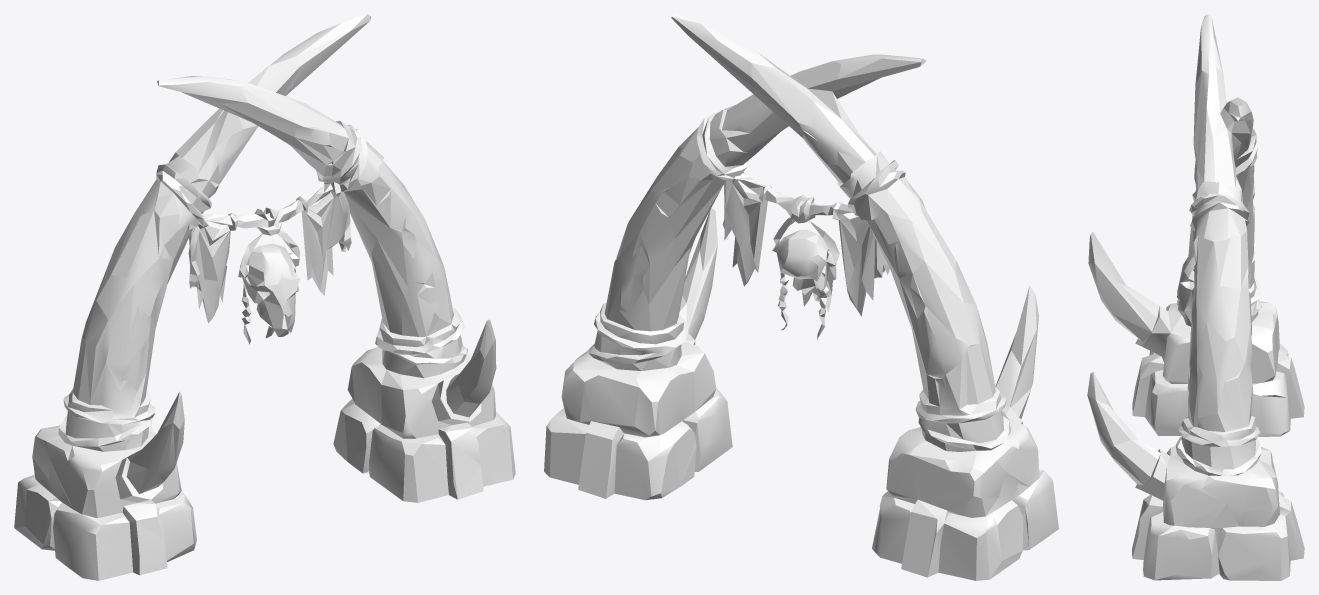
The model's file is tusk_arch.glb.
3 views of the same model, side by side, from view 1: azimuth 30°, elevation 25°; view 2: azimuth 150°, elevation 25°; view 3: azimuth 270°, elevation 25° (orthographic). The views are drawn at different scales.
Visible parts, largest first — view 1: tusk_arch; view 2: tusk_arch; view 3: tusk_arch.
Part boxes in pixels (box(x1,y1,x2,y2)): tusk_arch: box(14, 14, 515, 580); tusk_arch: box(544, 14, 1058, 580); tusk_arch: box(1087, 14, 1304, 580).
Bounding box in the file's own units: 5.55 × 5.5 × 2.59.
Materials: 1 (1 with a texture image).
